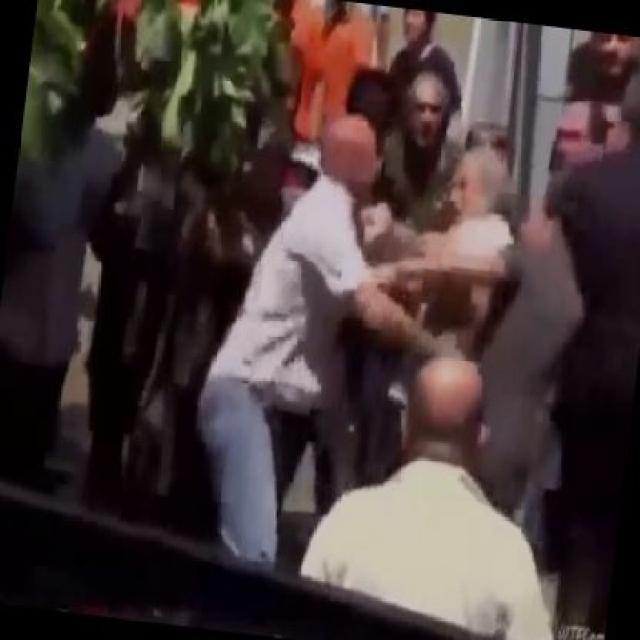fight: (192, 90, 522, 589)
